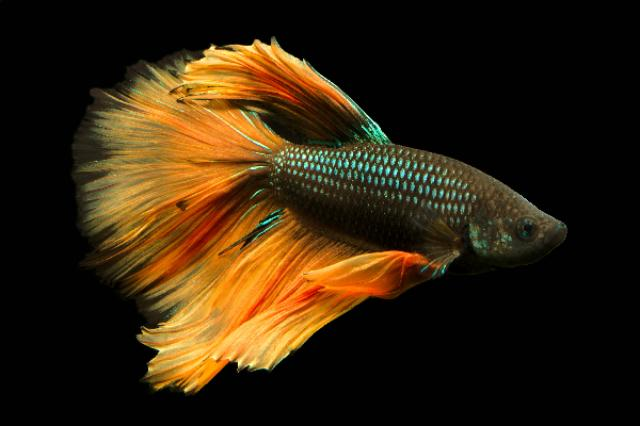Mulut: (519, 210, 589, 262)
Sirip Dada: (391, 191, 474, 291)
Sirip Punggung: (160, 20, 418, 166)
